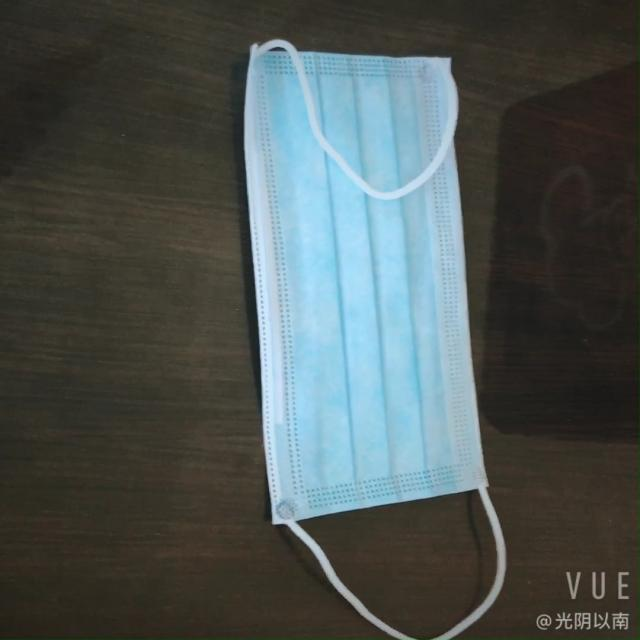face mask: (235, 51, 480, 544)
